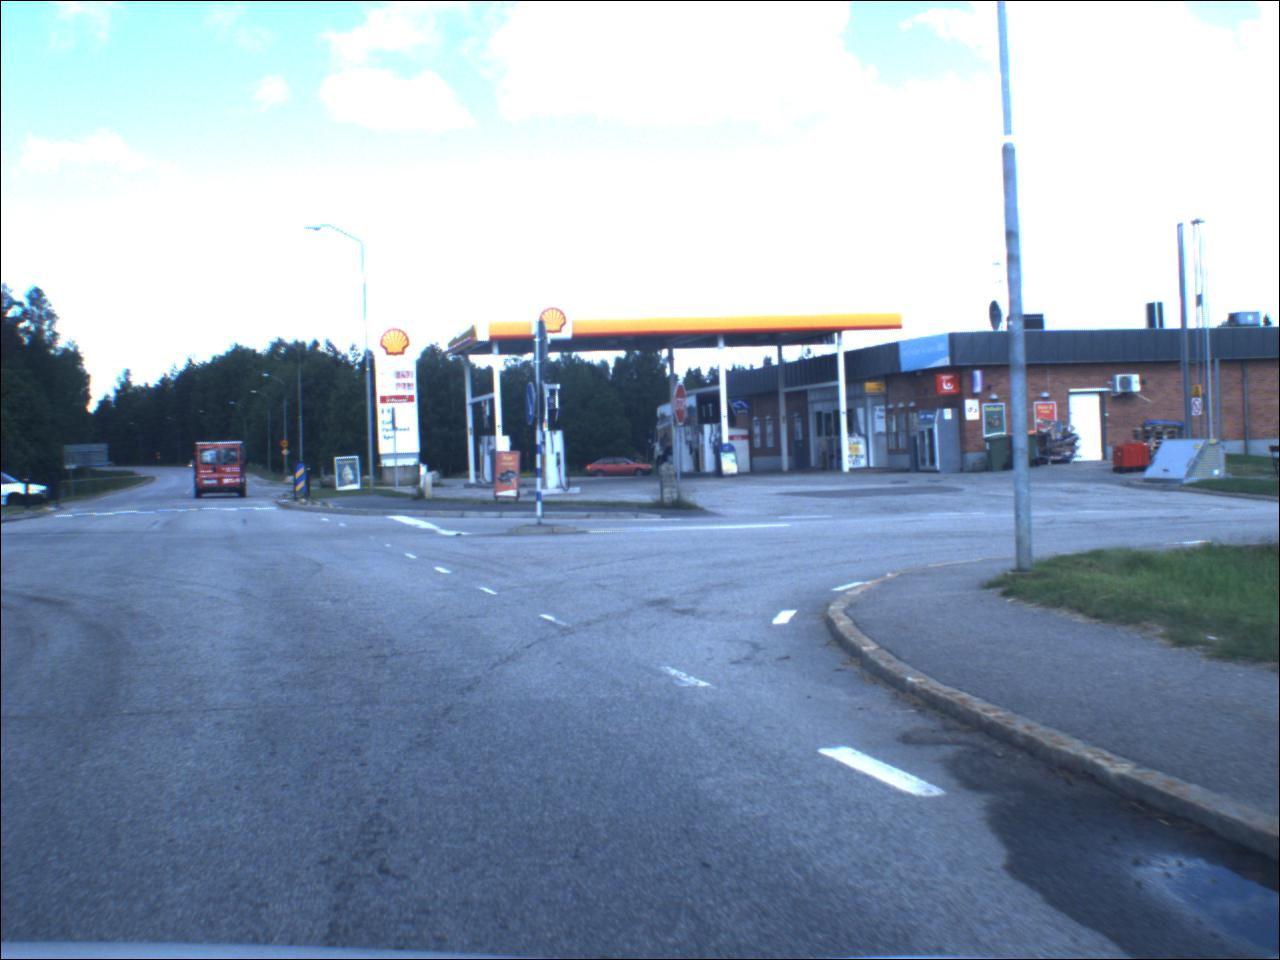50_SIGN: (281, 440, 292, 451)
PASS_RIGHT_SIDE: (525, 382, 539, 426)
PRIORITY_ROAD: (284, 451, 293, 458)
STOP: (671, 380, 693, 428)
